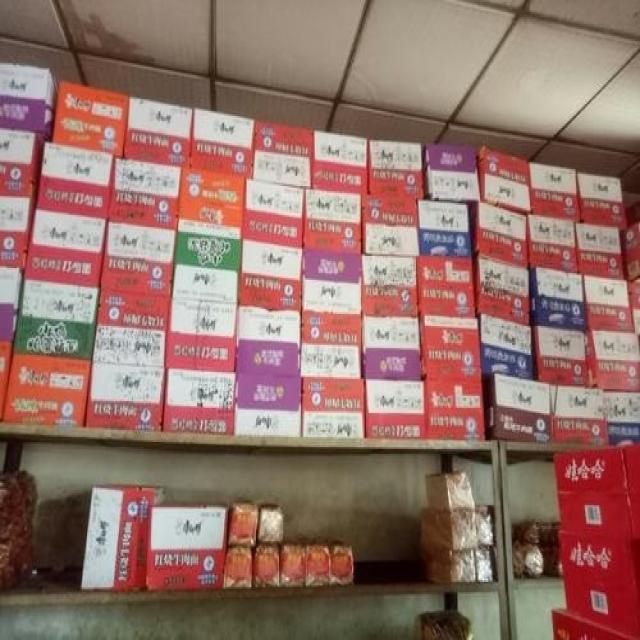box: (558, 529, 640, 635), (82, 485, 165, 589), (13, 275, 99, 362), (146, 500, 228, 591), (554, 451, 635, 536), (3, 355, 91, 427), (100, 218, 179, 297), (27, 208, 104, 288), (92, 290, 169, 369), (37, 142, 116, 218), (52, 80, 129, 157), (87, 362, 166, 430), (123, 94, 195, 166), (165, 297, 236, 370), (109, 159, 183, 229), (233, 304, 302, 379), (173, 230, 241, 305), (236, 237, 303, 312), (0, 60, 58, 143), (486, 372, 552, 444), (163, 370, 237, 433), (251, 114, 314, 186), (297, 312, 364, 379), (189, 106, 255, 174), (234, 370, 302, 435), (180, 167, 244, 236), (243, 176, 305, 247), (301, 247, 362, 319), (415, 256, 479, 321), (302, 188, 364, 254), (311, 123, 371, 191), (470, 256, 530, 324), (547, 382, 611, 444), (302, 375, 366, 437), (360, 191, 421, 256), (361, 254, 422, 319), (470, 200, 530, 266), (476, 145, 532, 213), (365, 377, 426, 439), (361, 314, 421, 377), (479, 312, 535, 379), (420, 143, 481, 203), (586, 329, 640, 396), (425, 379, 485, 439), (421, 319, 481, 379), (369, 137, 426, 200), (527, 212, 581, 273), (530, 159, 582, 222), (530, 268, 586, 326), (531, 326, 588, 382), (0, 130, 44, 196), (419, 200, 470, 256), (582, 278, 632, 335), (576, 174, 627, 229), (550, 609, 640, 640), (576, 227, 626, 278), (0, 195, 33, 268), (422, 507, 476, 550), (428, 466, 477, 509), (603, 393, 640, 444), (0, 266, 24, 343), (424, 550, 476, 582), (221, 544, 255, 591), (302, 539, 332, 589), (280, 539, 307, 592), (626, 444, 640, 536), (252, 544, 280, 589), (229, 503, 259, 544), (621, 220, 640, 282), (328, 539, 355, 582), (0, 338, 13, 422), (259, 503, 282, 546), (476, 509, 494, 548), (476, 550, 493, 584), (631, 280, 640, 336)
